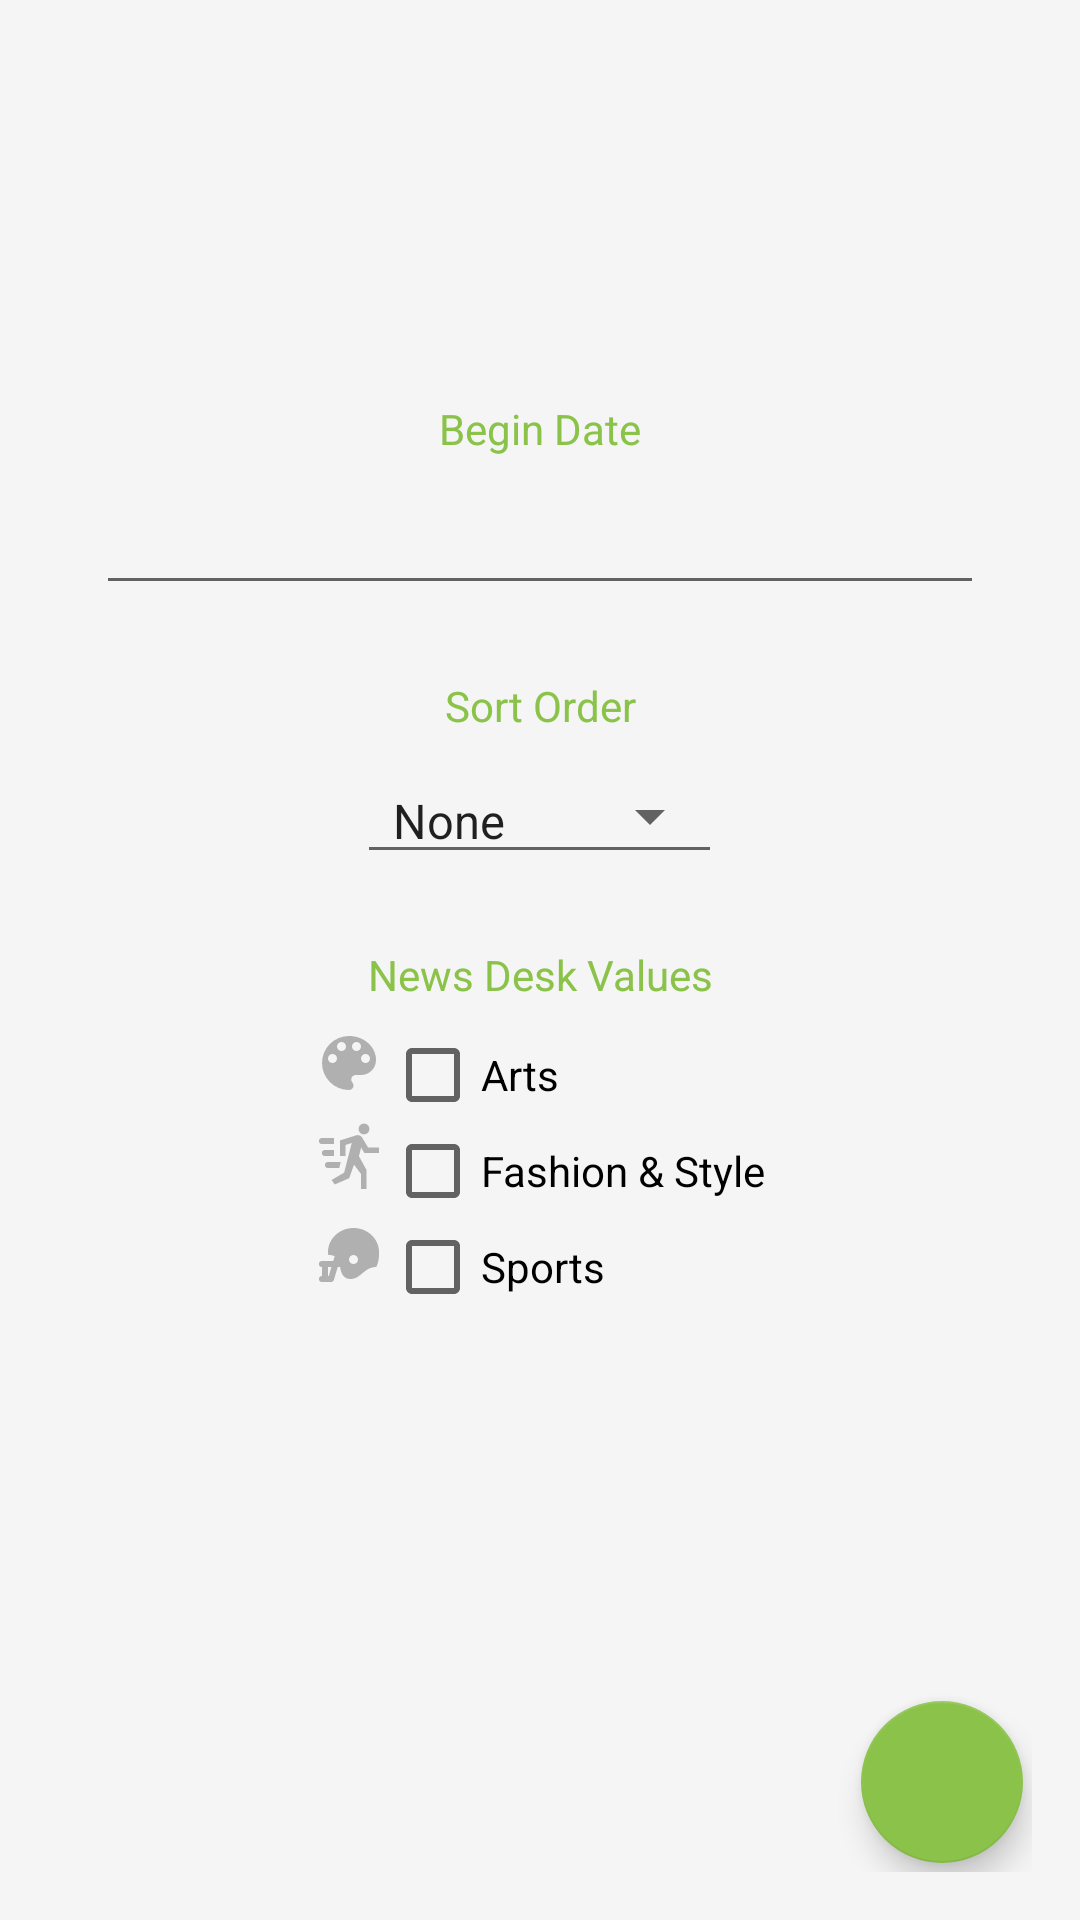

Icons on this 1080px×1920px Android screen, each with the point to tap as (x=x, y=y):
palette: (x=349, y=1063)
run: (x=349, y=1156)
